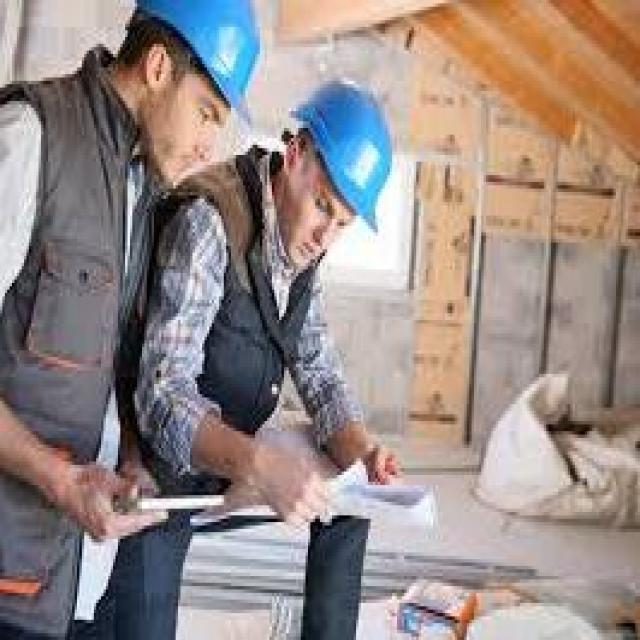Safety-Helmet: (282, 68, 406, 242), (123, 0, 272, 128)
